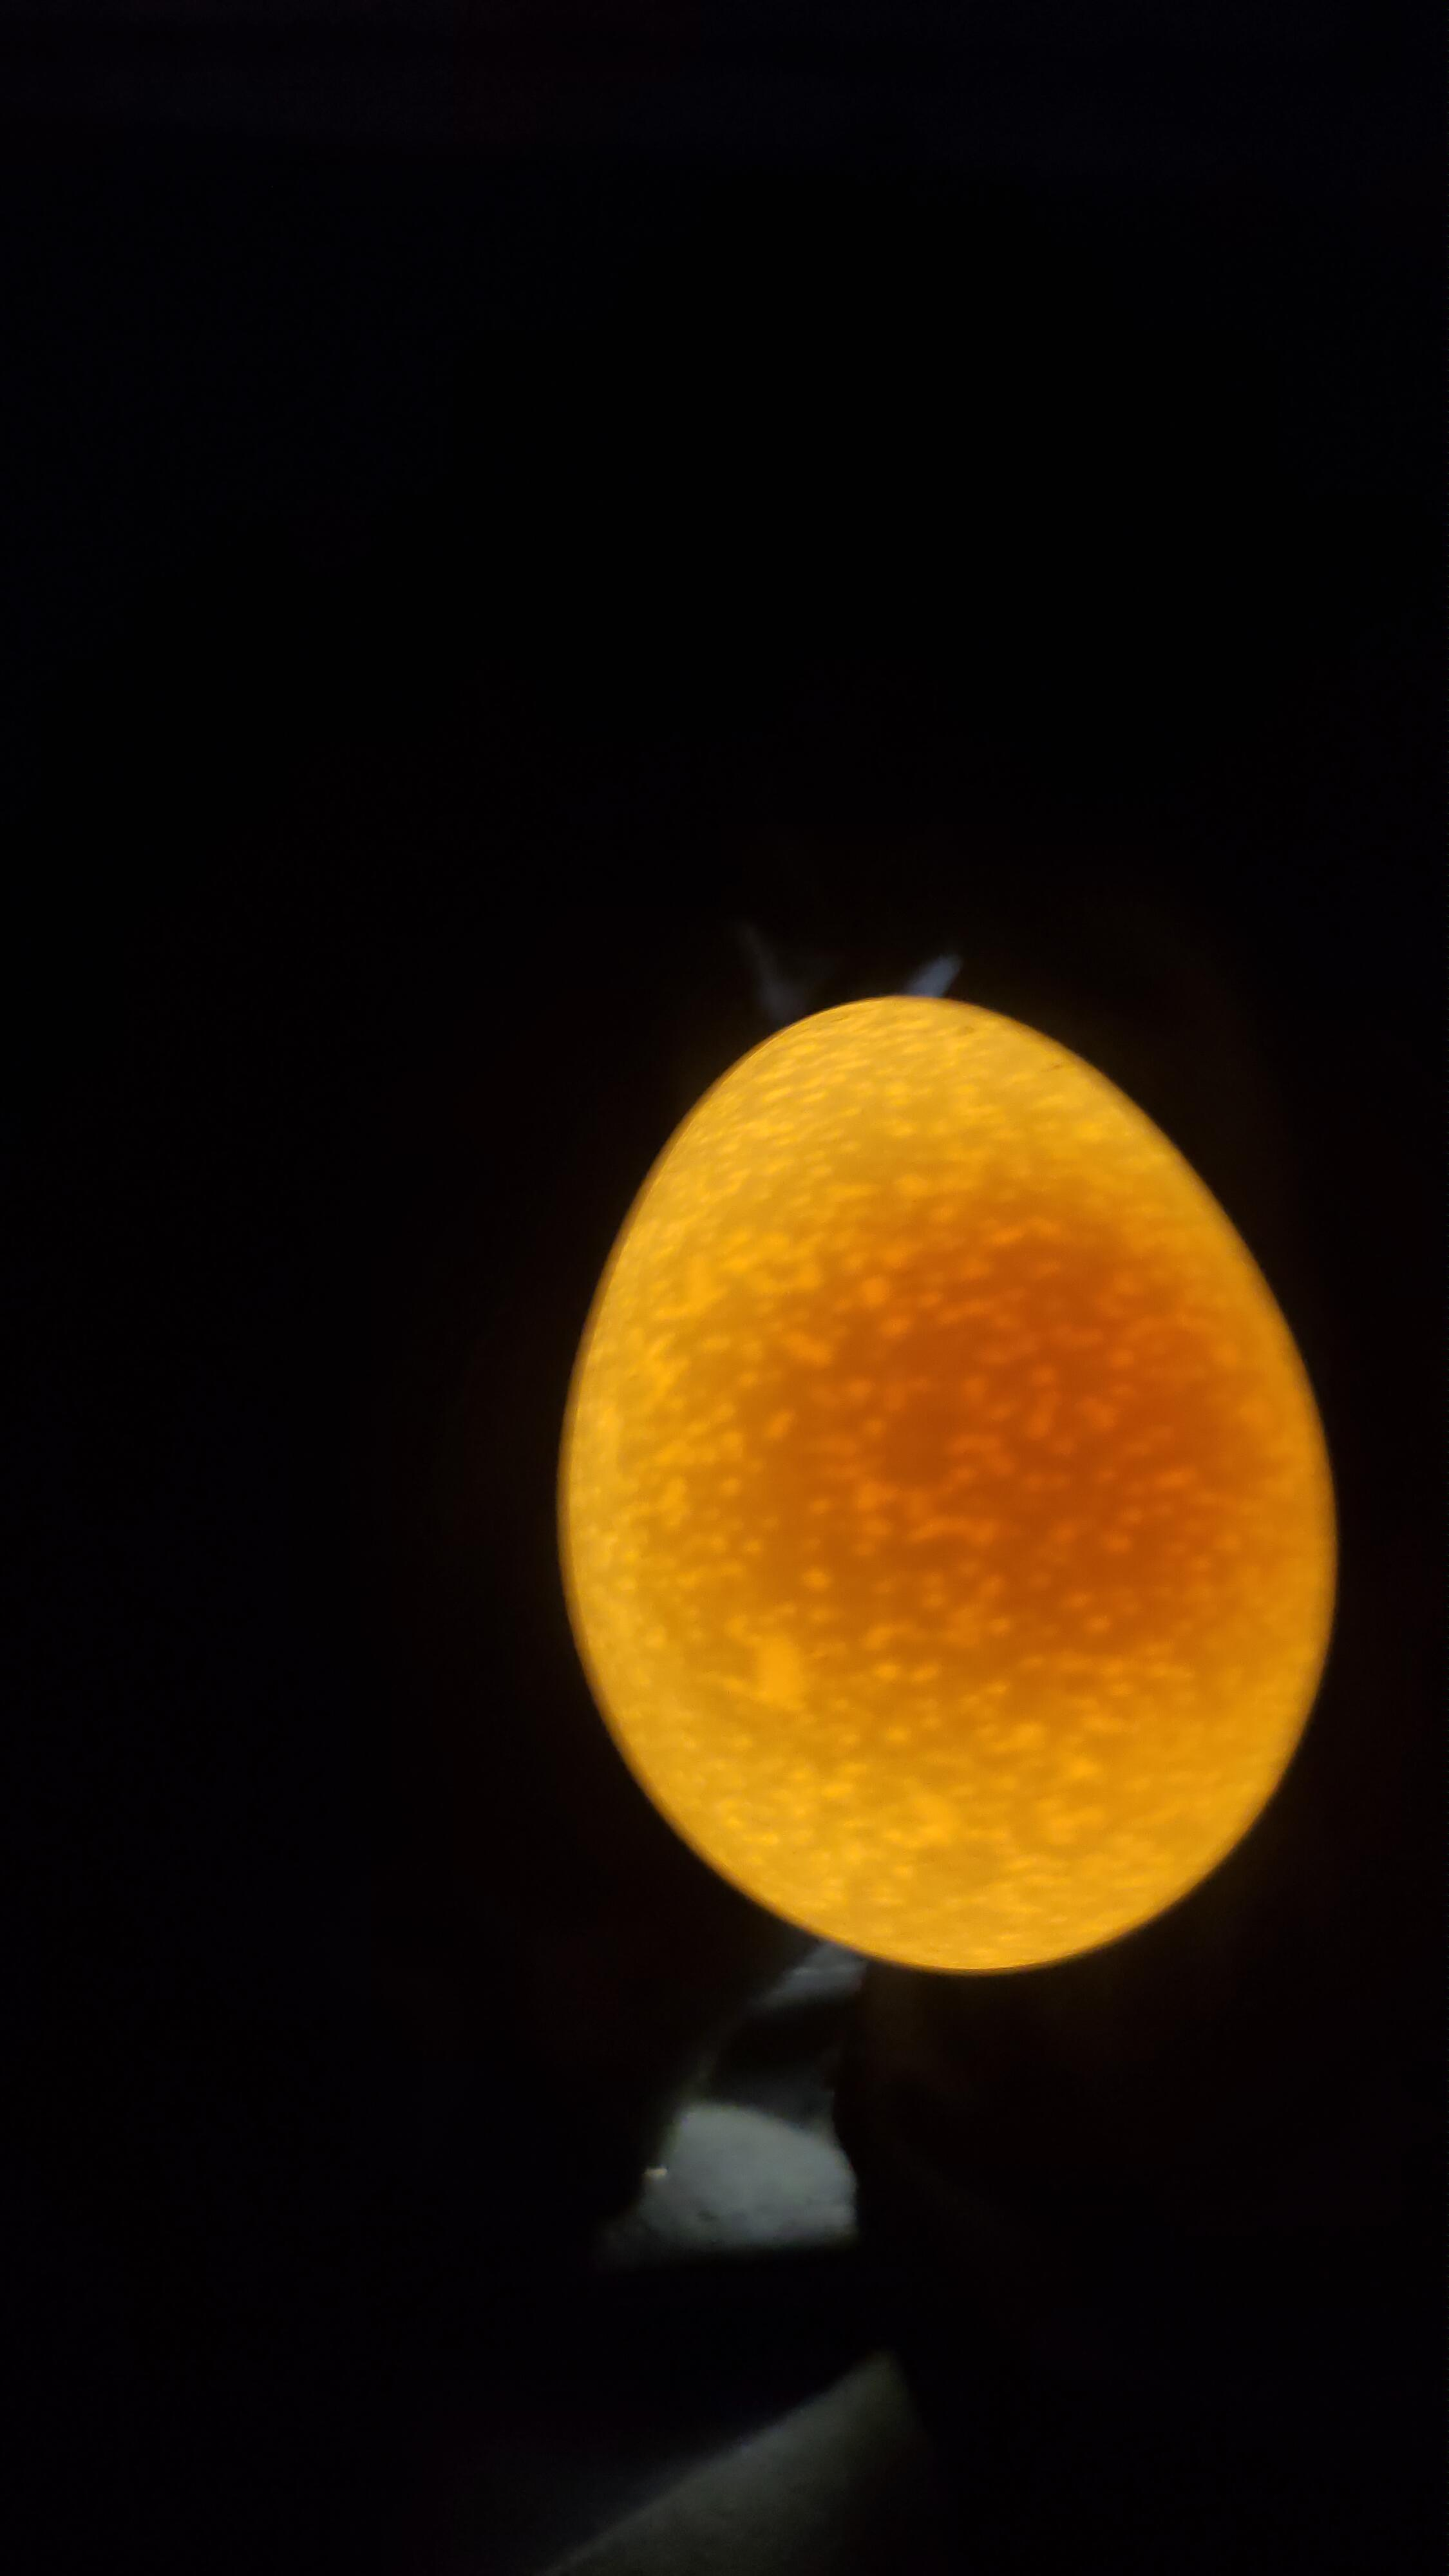A - Good: (490, 954, 1405, 2029)
